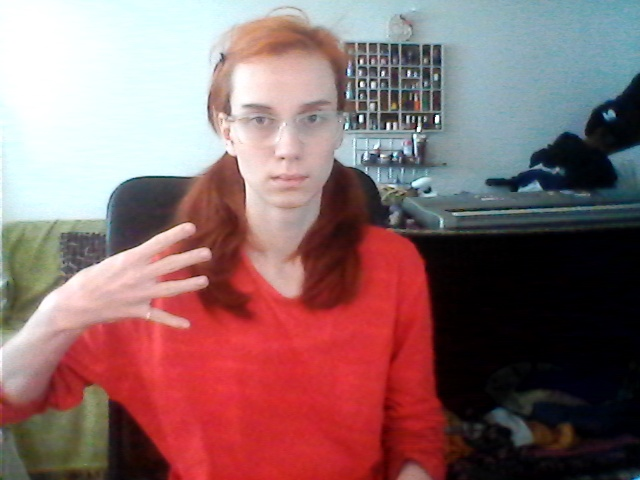styri: (57, 218, 221, 339)
